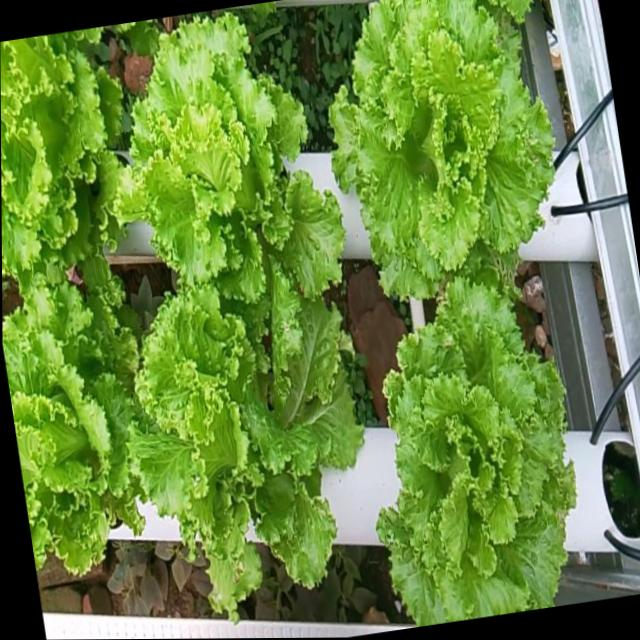Mature: (127, 295, 379, 621), (375, 276, 575, 625), (327, 0, 553, 302), (111, 13, 342, 307), (2, 286, 139, 581), (0, 35, 117, 309)
